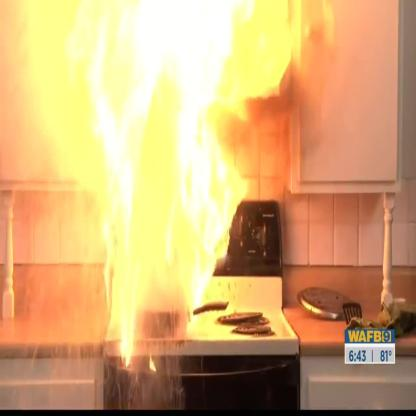fire: (53, 0, 341, 370)
